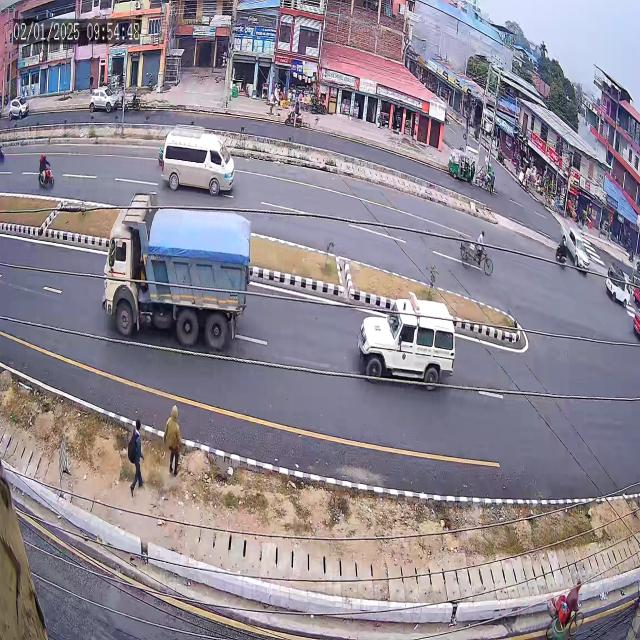car: (348, 284, 468, 403)
cycle: (535, 559, 598, 640), (449, 211, 508, 284)
motorcycle: (30, 141, 64, 198), (544, 228, 568, 278)
truck: (98, 182, 260, 368)
van: (147, 110, 255, 201)
